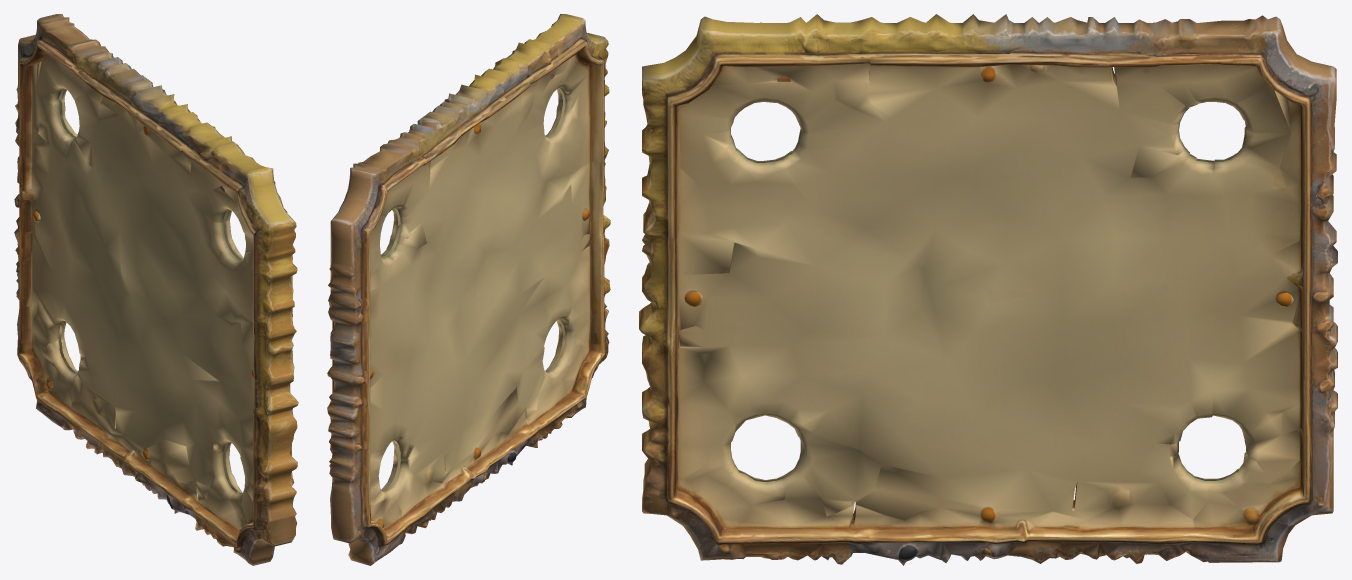
3 views of the same model, side by side, from view 1: azimuth 30°, elevation 25°; view 2: azimuth 150°, elevation 25°; view 3: azimuth 270°, elevation 25° (orthographic). The views are drawn at different scales.
Visible parts, largest first — view 1: tripo_node_afca110f-7a62-4fc5-83bf-54c588d531e8; view 2: tripo_node_afca110f-7a62-4fc5-83bf-54c588d531e8; view 3: tripo_node_afca110f-7a62-4fc5-83bf-54c588d531e8.
Part boxes in pixels (bbox=[...]): tripo_node_afca110f-7a62-4fc5-83bf-54c588d531e8: bbox=[14, 14, 298, 565]; tripo_node_afca110f-7a62-4fc5-83bf-54c588d531e8: bbox=[327, 14, 610, 565]; tripo_node_afca110f-7a62-4fc5-83bf-54c588d531e8: bbox=[639, 14, 1337, 565].
Size of the model in its own units: 0.109 by 1 by 1.18.
Materials: 1 (1 with a texture image).
